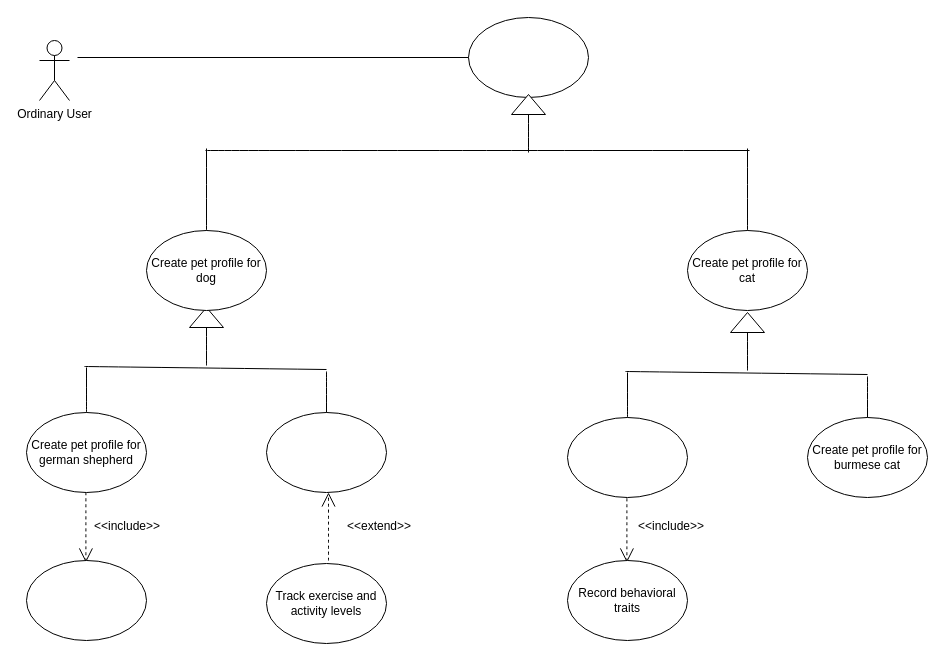
This 945x661 diagram has some shape labels left out. Each missing label, with the centre of its shape:
"Create pet profile" goes at point 528,57.
"Create pet profile for golden retriever" goes at point 326,452.
"Create pet profile for siamese cat" goes at point 627,457.
"Manage dietary needs" goes at point 86,600.
